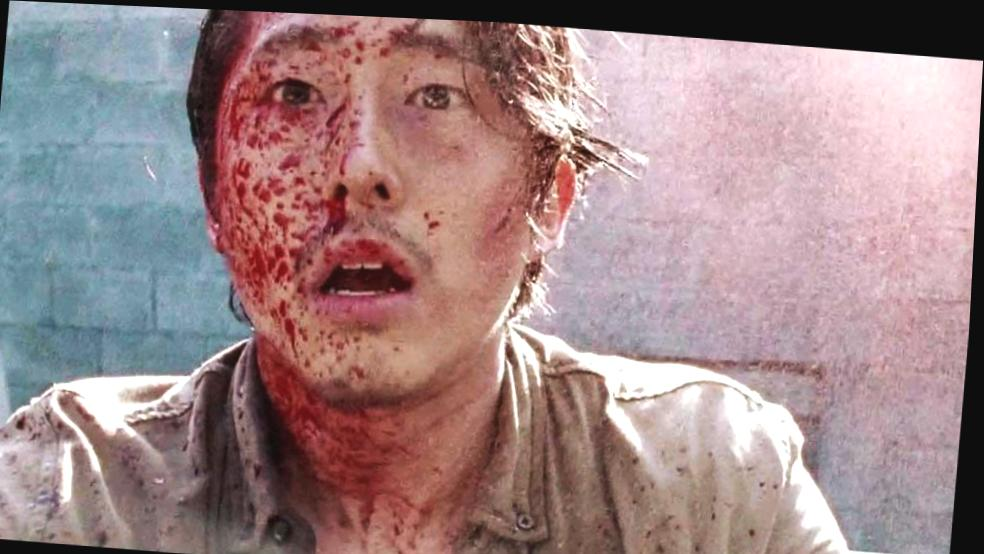Fire: (210, 9, 463, 554)
